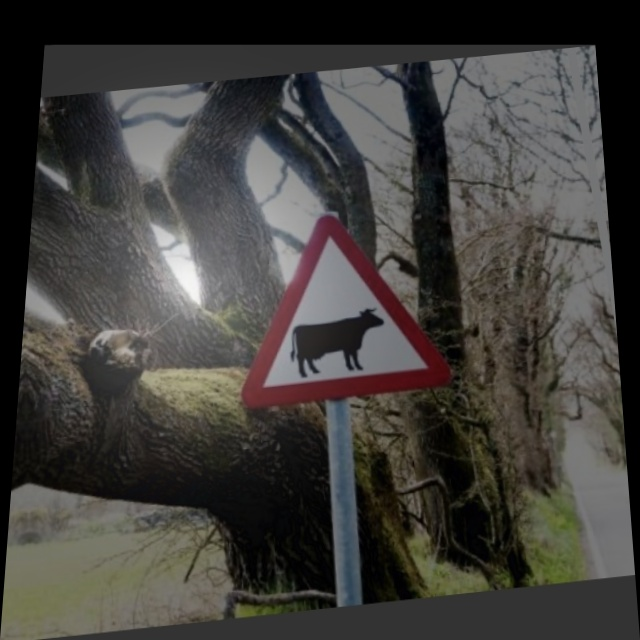Cattle: (226, 202, 460, 409)
